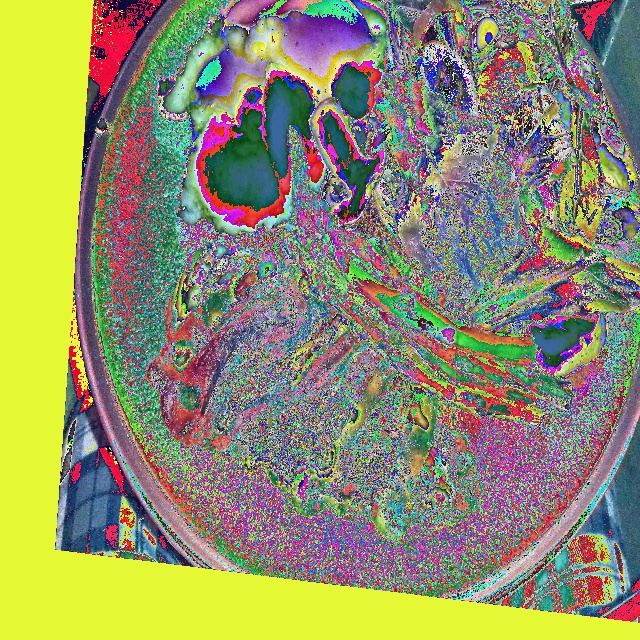background: (147, 0, 639, 546)
